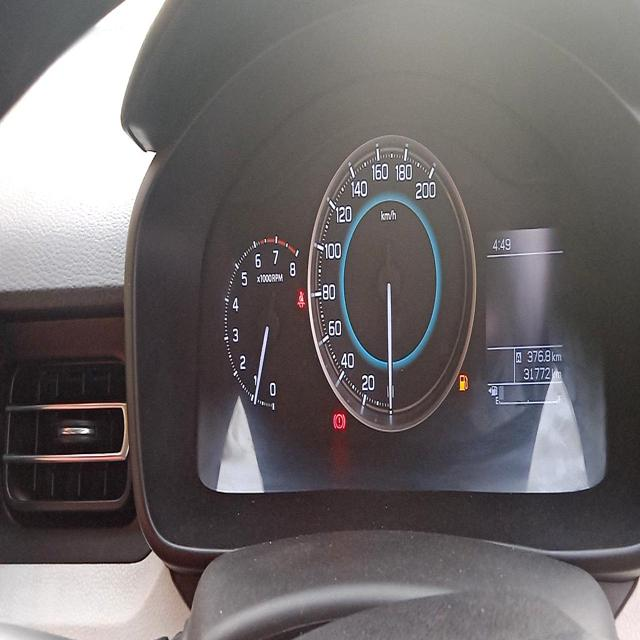odometer: (520, 362, 551, 381)
